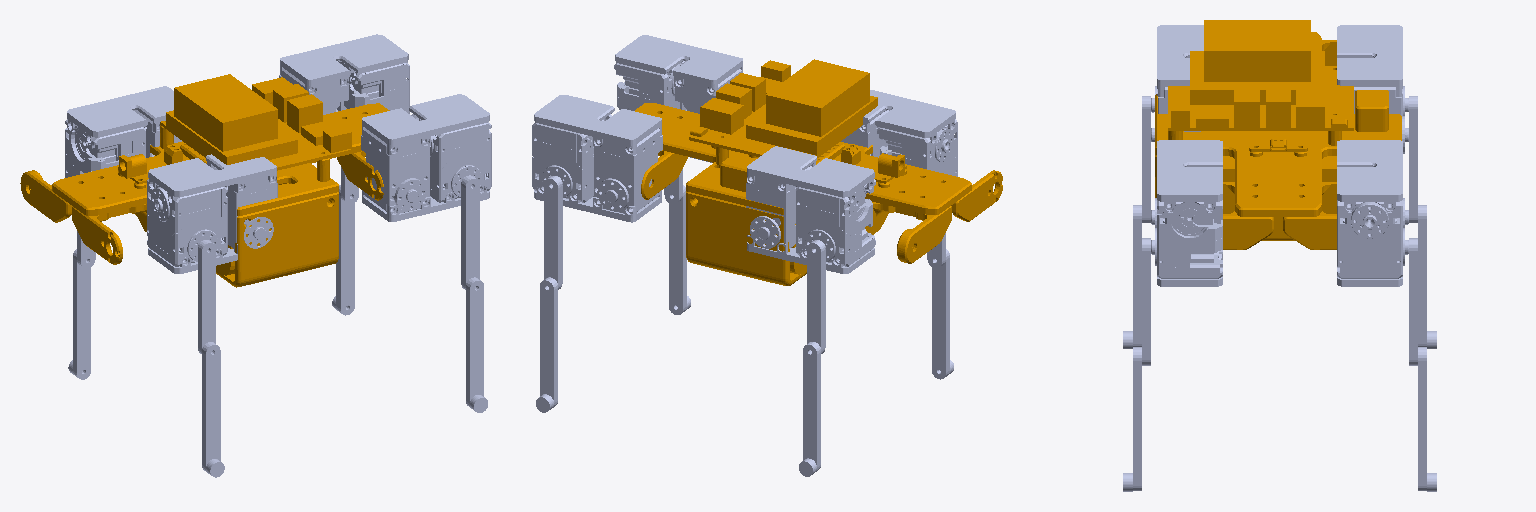
robot.urdf — fooldog_urdf:
<?xml version="1.0" encoding="utf-8"?>
<!-- This URDF was automatically created by SolidWorks to URDF Exporter! Originally created by [author] ([email redacted]) 
     Commit Version: 1.6.0-4-g7f85cfe  Build Version: 1.6.7995.38578
     For more information, please see http://wiki.ros.org/sw_urdf_exporter -->
<robot
  name="fooldog_urdf">
  <link name="base_link">
    <visual>
      <origin
        xyz="-0.0313813075929248 -0.00081345874439115 -0.0203361388423792"
        rpy="0 0 0" />
      <geometry>
        <mesh filename="package://fooldog_urdf/meshes/base_link.STL"/>
      </geometry>
    </visual>
    <collision>
      <origin xyz="0 0 0" rpy="0 0 0"/>
      <geometry>
        <mesh filename="package://fooldog_urdf/meshes/base_link.STL"/>
      </geometry>
    </collision>
  </link>
  <!-- Fixed joint to add dummy inertia link -->
  <joint name="base_to_base_inertia" type="fixed">
    <parent link="base_link" />
    <child link="base_inertia" />
    <origin rpy="0 0 0" xyz="0 0 0" />
  </joint>
  <!-- Dummy inertia link, because KDL cannot have inertia on the base link -->
  <link name="base_inertia">
    <inertial>
      <origin rpy="0 0 0" xyz="0 0 0"/>
      <mass value="0.1"/>
      <inertia ixx="0.01" ixy="0" ixz="0" iyy="0.01" iyz="0" izz="0.01"/>
    </inertial>
  </link>
  <link
    name="fl_Link">
    <inertial>
      <origin
        xyz="0.0362396128583494 0.000881421034328853 -0.0121399997669012"
        rpy="0 0 0" />
      <mass
        value="0.115606527774141" />
      <inertia
        ixx="2.7672758582273E-05"
        ixy="3.61016816676796E-07"
        ixz="-6.54728431466397E-09"
        iyy="3.30818992521892E-05"
        iyz="2.55280788679725E-07"
        izz="2.76816776750825E-05" />
    </inertial>
    <visual>
      <origin
        xyz="0 0 0"
        rpy="0 0 0" />
      <geometry>
        <mesh
          filename="package://fooldog_urdf/meshes/fl_Link.STL" />
      </geometry>
      <material
        name="">
        <color
          rgba="0.792156862745098 0.819607843137255 0.933333333333333 1" />
      </material>
    </visual>
    <collision>
      <origin
        xyz="0 0 0"
        rpy="0 0 0" />
      <geometry>
        <mesh
          filename="package://fooldog_urdf/meshes/fl_Link.STL" />
      </geometry>
    </collision>
  </link>
  <joint
    name="fl"
    type="continuous">
    <origin
      xyz="0.00723678392728447 0.0485586045266115 -0.0196700000000003"
      rpy="0 0 0" />
    <parent
      link="base_link" />
    <child
      link="fl_Link" />
    <axis
      xyz="1 0 0" />
  </joint>
  <link
    name="flu_Link">
    <inertial>
      <origin
        xyz="-8.3100610129283E-08 0.00250249593004062 -0.0325001100766686"
        rpy="0 0 0" />
      <mass
        value="0.00356977187980691" />
      <inertia
        ixx="1.54760219123258E-06"
        ixy="-1.97101940239977E-13"
        ixz="-1.11937080823944E-11"
        iyy="1.56961934496898E-06"
        iyz="6.87149175614032E-13"
        izz="3.6891361382989E-08" />
    </inertial>
    <visual>
      <origin
        xyz="0 0 0"
        rpy="0 0 0" />
      <geometry>
        <mesh
          filename="package://fooldog_urdf/meshes/flu_Link.STL" />
      </geometry>
      <material
        name="">
        <color
          rgba="0.792156862745098 0.819607843137255 0.933333333333333 1" />
      </material>
    </visual>
    <collision>
      <origin
        xyz="0 0 0"
        rpy="0 0 0" />
      <geometry>
        <mesh
          filename="package://fooldog_urdf/meshes/flu_Link.STL" />
      </geometry>
    </collision>
  </link>
  <joint
    name="flu"
    type="continuous">
    <origin
      xyz="0.0524464493931691 0.0209174990447602 -0.0240000000000004"
      rpy="0 0 0" />
    <parent
      link="fl_Link" />
    <child
      link="flu_Link" />
    <axis
      xyz="0 1 0" />
  </joint>
  <link
    name="fld_Link">
    <inertial>
      <origin
        xyz="-2.18695815623615E-09 0.00249999534071721 -0.0374999107536592"
        rpy="0 0 0" />
      <mass
        value="0.00406938938923673" />
      <inertia
        ixx="2.2827457514132E-06"
        ixy="-1.78424846650356E-14"
        ixz="-9.64938373066733E-12"
        iyy="2.30788290654951E-06"
        iyz="7.26000690668644E-13"
        izz="4.20931619021605E-08" />
    </inertial>
    <visual>
      <origin
        xyz="0 0 0"
        rpy="0 0 0" />
      <geometry>
        <mesh
          filename="package://fooldog_urdf/meshes/fld_Link.STL" />
      </geometry>
      <material
        name="">
        <color
          rgba="0.792156862745098 0.819607843137255 0.933333333333333 1" />
      </material>
    </visual>
    <collision>
      <origin
        xyz="0 0 0"
        rpy="0 0 0" />
      <geometry>
        <mesh
          filename="package://fooldog_urdf/meshes/fld_Link.STL" />
      </geometry>
    </collision>
  </link>
  <joint
    name="fld"
    type="continuous">
    <origin
      xyz="0 0.00500250095523978 -0.0649999643759598"
      rpy="0 0 0" />
    <parent
      link="flu_Link" />
    <child
      link="fld_Link" />
    <axis
      xyz="0 1 0" />
  </joint>
  <link
    name="flf_Link">
    <inertial>
      <origin
        xyz="-1.7541244572844E-07 0.00250004386431849 6.64767560998314E-08"
        rpy="0 0 0" />
      <mass
        value="0.000392662064001443" />
      <inertia
        ixx="3.27416101920322E-09"
        ixy="1.37752604700155E-13"
        ixz="-4.67235530190916E-13"
        iyy="4.90800875634096E-09"
        iyz="-5.22046555243651E-14"
        izz="3.26984780841236E-09" />
    </inertial>
    <visual>
      <origin
        xyz="0 0 0"
        rpy="0 0 0" />
      <geometry>
        <mesh
          filename="package://fooldog_urdf/meshes/flf_Link.STL" />
      </geometry>
      <material
        name="">
        <color
          rgba="0.792156862745098 0.819607843137255 0.933333333333333 1" />
      </material>
    </visual>
    <collision>
      <origin
        xyz="0 0 0"
        rpy="0 0 0" />
      <geometry>
        <mesh
          filename="package://fooldog_urdf/meshes/flf_Link.STL" />
      </geometry>
    </collision>
  </link>
  <joint
    name="flf"
    type="fixed">
    <origin
      xyz="0 0.00499999999999999 -0.074999999999994"
      rpy="0 0 0" />
    <parent
      link="fld_Link" />
    <child
      link="flf_Link" />
    <axis
      xyz="0 1 0" />
  </joint>
  <link
    name="fr_Link">
    <inertial>
      <origin
        xyz="0.0353657573446796 -0.000881458634347174 -0.01213993551594"
        rpy="0 0 0" />
      <mass
        value="0.115607202953719" />
      <inertia
        ixx="2.76734007268047E-05"
        ixy="3.37826313509432E-07"
        ixz="3.83056804594391E-09"
        iyy="3.30828494629692E-05"
        iyz="-2.55205398451743E-07"
        izz="2.76822536893207E-05" />
    </inertial>
    <visual>
      <origin
        xyz="0 0 0"
        rpy="0 0 0" />
      <geometry>
        <mesh
          filename="package://fooldog_urdf/meshes/fr_Link.STL" />
      </geometry>
      <material
        name="">
        <color
          rgba="0.792156862745098 0.819607843137255 0.933333333333333 1" />
      </material>
    </visual>
    <collision>
      <origin
        xyz="0 0 0"
        rpy="0 0 0" />
      <geometry>
        <mesh
          filename="package://fooldog_urdf/meshes/fr_Link.STL" />
      </geometry>
    </collision>
  </link>
  <joint
    name="fr"
    type="continuous">
    <origin
      xyz="0.00723678407973241 -0.0485586045266115 -0.0196700000000008"
      rpy="0 0 0" />
    <parent
      link="base_link" />
    <child
      link="fr_Link" />
    <axis
      xyz="1 0 0" />
  </joint>
  <link
    name="fru_Link">
    <inertial>
      <origin
        xyz="-9.60401154992407E-08 -0.00250250502519832 -0.0325000978434327"
        rpy="0 0 0" />
      <mass
        value="0.00356977238820035" />
      <inertia
        ixx="1.54759961428198E-06"
        ixy="-1.97101704470595E-13"
        ixz="-6.88471641797329E-12"
        iyy="1.56961675869309E-06"
        iyz="6.8714897248459E-13"
        izz="3.68913533286807E-08" />
    </inertial>
    <visual>
      <origin
        xyz="0 0 0"
        rpy="0 0 0" />
      <geometry>
        <mesh
          filename="package://fooldog_urdf/meshes/fru_Link.STL" />
      </geometry>
      <material
        name="">
        <color
          rgba="0.792156862745098 0.819607843137255 0.933333333333333 1" />
      </material>
    </visual>
    <collision>
      <origin
        xyz="0 0 0"
        rpy="0 0 0" />
      <geometry>
        <mesh
          filename="package://fooldog_urdf/meshes/fru_Link.STL" />
      </geometry>
    </collision>
  </link>
  <joint
    name="fru"
    type="continuous">
    <origin
      xyz="0.0524464492407212 -0.0209174999999999 -0.0239999999999998"
      rpy="0 0 0" />
    <parent
      link="fr_Link" />
    <child
      link="fru_Link" />
    <axis
      xyz="0 1 0" />
  </joint>
  <link
    name="frd_Link">
    <inertial>
      <origin
        xyz="-2.18507476001939E-09 -0.00250000465928281 -0.0374999107245979"
        rpy="0 0 0" />
      <mass
        value="0.00406938939511331" />
      <inertia
        ixx="2.28274575309022E-06"
        ixy="-1.78424846448734E-14"
        ixz="-1.5549255750963E-12"
        iyy="2.30788290877387E-06"
        iyz="7.2600069040035E-13"
        izz="4.20931624641901E-08" />
    </inertial>
    <visual>
      <origin
        xyz="0 0 0"
        rpy="0 0 0" />
      <geometry>
        <mesh
          filename="package://fooldog_urdf/meshes/frd_Link.STL" />
      </geometry>
      <material
        name="">
        <color
          rgba="0.792156862745098 0.819607843137255 0.933333333333333 1" />
      </material>
    </visual>
    <collision>
      <origin
        xyz="0 0 0"
        rpy="0 0 0" />
      <geometry>
        <mesh
          filename="package://fooldog_urdf/meshes/frd_Link.STL" />
      </geometry>
    </collision>
  </link>
  <joint
    name="frd"
    type="continuous">
    <origin
      xyz="0 -0.00500249999999999 -0.0649999643759603"
      rpy="0 0 0" />
    <parent
      link="fru_Link" />
    <child
      link="frd_Link" />
    <axis
      xyz="0 1 0" />
  </joint>
  <link
    name="frf_Link">
    <inertial>
      <origin
        xyz="-1.75412445735379E-07 -0.00249995613568155 6.64767560998314E-08"
        rpy="0 0 0" />
      <mass
        value="0.000392662064001445" />
      <inertia
        ixx="3.27416101920321E-09"
        ixy="1.37752604691601E-13"
        ixz="-4.67235530206812E-13"
        iyy="4.90800875634099E-09"
        iyz="-5.2204655523192E-14"
        izz="3.26984780841239E-09" />
    </inertial>
    <visual>
      <origin
        xyz="0 0 0"
        rpy="0 0 0" />
      <geometry>
        <mesh
          filename="package://fooldog_urdf/meshes/frf_Link.STL" />
      </geometry>
      <material
        name="">
        <color
          rgba="0.792156862745098 0.819607843137255 0.933333333333333 1" />
      </material>
    </visual>
    <collision>
      <origin
        xyz="0 0 0"
        rpy="0 0 0" />
      <geometry>
        <mesh
          filename="package://fooldog_urdf/meshes/frf_Link.STL" />
      </geometry>
    </collision>
  </link>
  <joint
    name="frf"
    type="fixed">
    <origin
      xyz="0 -0.005 -0.074999999999994"
      rpy="0 0 0" />
    <parent
      link="frd_Link" />
    <child
      link="frf_Link" />
    <axis
      xyz="0 1 0" />
  </joint>
  <link
    name="bl_Link">
    <inertial>
      <origin
        xyz="-0.0353656984838925 0.000881421071971408 -0.0121399784381246"
        rpy="0 0 0" />
      <mass
        value="0.115606746709192" />
      <inertia
        ixx="2.76728053327667E-05"
        ixy="3.3785144523757E-07"
        ixz="-3.82770738138678E-09"
        iyy="3.30820511910554E-05"
        iyz="2.55278303662232E-07"
        izz="2.76818219754704E-05" />
    </inertial>
    <visual>
      <origin
        xyz="0 0 0"
        rpy="0 0 0" />
      <geometry>
        <mesh
          filename="package://fooldog_urdf/meshes/bl_Link.STL" />
      </geometry>
      <material
        name="">
        <color
          rgba="0.792156862745098 0.819607843137255 0.933333333333333 1" />
      </material>
    </visual>
    <collision>
      <origin
        xyz="0 0 0"
        rpy="0 0 0" />
      <geometry>
        <mesh
          filename="package://fooldog_urdf/meshes/bl_Link.STL" />
      </geometry>
    </collision>
  </link>
  <joint
    name="bl"
    type="continuous">
    <origin
      xyz="-0.0692103140818923 0.0485586045266112 -0.0196700000000008"
      rpy="0 0 0" />
    <parent
      link="base_link" />
    <child
      link="bl_Link" />
    <axis
      xyz="1 0 0" />
  </joint>
  <link
    name="blu_Link">
    <inertial>
      <origin
        xyz="1.1228012866682E-07 0.00250249440029281 -0.032500098852133"
        rpy="0 0 0" />
      <mass
        value="0.00356977238751855" />
      <inertia
        ixx="1.54759981979417E-06"
        ixy="9.94211959482504E-14"
        ixz="5.39826442711664E-12"
        iyy="1.56961637954596E-06"
        iyz="6.26996673026569E-13"
        izz="3.68907686642067E-08" />
    </inertial>
    <visual>
      <origin
        xyz="0 0 0"
        rpy="0 0 0" />
      <geometry>
        <mesh
          filename="package://fooldog_urdf/meshes/blu_Link.STL" />
      </geometry>
      <material
        name="">
        <color
          rgba="0.792156862745098 0.819607843137255 0.933333333333333 1" />
      </material>
    </visual>
    <collision>
      <origin
        xyz="0 0 0"
        rpy="0 0 0" />
      <geometry>
        <mesh
          filename="package://fooldog_urdf/meshes/blu_Link.STL" />
      </geometry>
    </collision>
  </link>
  <joint
    name="blu"
    type="continuous">
    <origin
      xyz="-0.0524464492407207 0.0209175 -0.0239999999999998"
      rpy="0 0 0" />
    <parent
      link="bl_Link" />
    <child
      link="blu_Link" />
    <axis
      xyz="0 1 0" />
  </joint>
  <link
    name="bld_Link">
    <inertial>
      <origin
        xyz="-1.48403035404865E-06 0.00249999533943603 -0.0374999107290417"
        rpy="0 0 0" />
      <mass
        value="0.00406938939249337" />
      <inertia
        ixx="2.2827457410441E-06"
        ixy="-1.77627036630698E-14"
        ixz="-9.15969091535514E-11"
        iyy="2.30788289894054E-06"
        iyz="7.26289520460782E-13"
        izz="4.20931646573267E-08" />
    </inertial>
    <visual>
      <origin
        xyz="0 0 0"
        rpy="0 0 0" />
      <geometry>
        <mesh
          filename="package://fooldog_urdf/meshes/bld_Link.STL" />
      </geometry>
      <material
        name="">
        <color
          rgba="0.792156862745098 0.819607843137255 0.933333333333333 1" />
      </material>
    </visual>
    <collision>
      <origin
        xyz="0 0 0"
        rpy="0 0 0" />
      <geometry>
        <mesh
          filename="package://fooldog_urdf/meshes/bld_Link.STL" />
      </geometry>
    </collision>
  </link>
  <joint
    name="bld"
    type="continuous">
    <origin
      xyz="0 0.00500249999999998 -0.0649999643759606"
      rpy="0 0 0" />
    <parent
      link="blu_Link" />
    <child
      link="bld_Link" />
    <axis
      xyz="0 1 0" />
  </joint>
  <link
    name="blf_Link">
    <inertial>
      <origin
        xyz="-1.75408453165216E-07 0.00250004386431849 6.64936707639452E-08"
        rpy="0 0 0" />
      <mass
        value="0.00039266206400142" />
      <inertia
        ixx="3.27416093160848E-09"
        ixy="1.37749469314318E-13"
        ixz="-4.67362462897062E-13"
        iyy="4.90800876098625E-09"
        iyz="-5.22179387556621E-14"
        izz="3.26984790065226E-09" />
    </inertial>
    <visual>
      <origin
        xyz="0 0 0"
        rpy="0 0 0" />
      <geometry>
        <mesh
          filename="package://fooldog_urdf/meshes/blf_Link.STL" />
      </geometry>
      <material
        name="">
        <color
          rgba="0.792156862745098 0.819607843137255 0.933333333333333 1" />
      </material>
    </visual>
    <collision>
      <origin
        xyz="0 0 0"
        rpy="0 0 0" />
      <geometry>
        <mesh
          filename="package://fooldog_urdf/meshes/blf_Link.STL" />
      </geometry>
    </collision>
  </link>
  <joint
    name="blf"
    type="fixed">
    <origin
      xyz="0 0.00499999999999999 -0.074999999941437"
      rpy="0 0 0" />
    <parent
      link="bld_Link" />
    <child
      link="blf_Link" />
    <axis
      xyz="0 1 0" />
  </joint>
  <link
    name="br_Link">
    <inertial>
      <origin
        xyz="-0.0362397199110994 -0.000881456036391337 -0.0121399127339061"
        rpy="0 0 0" />
      <mass
        value="0.115607363509946" />
      <inertia
        ixx="2.76734322521145E-05"
        ixy="3.60978319233135E-07"
        ixz="6.55980950809089E-09"
        iyy="3.30829941252106E-05"
        iyz="-2.55207890327998E-07"
        izz="2.76823756757094E-05" />
    </inertial>
    <visual>
      <origin
        xyz="0 0 0"
        rpy="0 0 0" />
      <geometry>
        <mesh
          filename="package://fooldog_urdf/meshes/br_Link.STL" />
      </geometry>
      <material
        name="">
        <color
          rgba="0.792156862745098 0.819607843137255 0.933333333333333 1" />
      </material>
    </visual>
    <collision>
      <origin
        xyz="0 0 0"
        rpy="0 0 0" />
      <geometry>
        <mesh
          filename="package://fooldog_urdf/meshes/br_Link.STL" />
      </geometry>
    </collision>
  </link>
  <joint
    name="br"
    type="continuous">
    <origin
      xyz="-0.069210317591168 -0.0485586045266115 -0.0196700000000008"
      rpy="0 0 0" />
    <parent
      link="base_link" />
    <child
      link="br_Link" />
    <axis
      xyz="1 0 0" />
  </joint>
  <link
    name="bru_Link">
    <inertial>
      <origin
        xyz="1.02849901359447E-07 -0.00250250559970802 -0.0325001110853673"
        rpy="0 0 0" />
      <mass
        value="0.00356977187912478" />
      <inertia
        ixx="1.5476023967445E-06"
        ixy="9.94214576251833E-14"
        ixz="9.70725542679528E-12"
        iyy="1.56961896582311E-06"
        iyz="6.26996918220703E-13"
        izz="3.68907767200401E-08" />
    </inertial>
    <visual>
      <origin
        xyz="0 0 0"
        rpy="0 0 0" />
      <geometry>
        <mesh
          filename="package://fooldog_urdf/meshes/bru_Link.STL" />
      </geometry>
      <material
        name="">
        <color
          rgba="0.792156862745098 0.819607843137255 0.933333333333333 1" />
      </material>
    </visual>
    <collision>
      <origin
        xyz="0 0 0"
        rpy="0 0 0" />
      <geometry>
        <mesh
          filename="package://fooldog_urdf/meshes/bru_Link.STL" />
      </geometry>
    </collision>
  </link>
  <joint
    name="bru"
    type="continuous">
    <origin
      xyz="-0.052446449240721 -0.0209174999999999 -0.0239999999999998"
      rpy="0 0 0" />
    <parent
      link="br_Link" />
    <child
      link="bru_Link" />
    <axis
      xyz="0 1 0" />
  </joint>
  <link
    name="brd_Link">
    <inertial>
      <origin
        xyz="-1.48402847253981E-06 -0.00250000466056437 -0.0374999107581021"
        rpy="0 0 0" />
      <mass
        value="0.00406938938661598" />
      <inertia
        ixx="2.28274574000674E-06"
        ixy="-1.77626978067659E-14"
        ixz="-8.35024509948514E-11"
        iyy="2.30788289671611E-06"
        iyz="7.26289512701157E-13"
        izz="4.20931634555637E-08" />
    </inertial>
    <visual>
      <origin
        xyz="0 0 0"
        rpy="0 0 0" />
      <geometry>
        <mesh
          filename="package://fooldog_urdf/meshes/brd_Link.STL" />
      </geometry>
      <material
        name="">
        <color
          rgba="0.792156862745098 0.819607843137255 0.933333333333333 1" />
      </material>
    </visual>
    <collision>
      <origin
        xyz="0 0 0"
        rpy="0 0 0" />
      <geometry>
        <mesh
          filename="package://fooldog_urdf/meshes/brd_Link.STL" />
      </geometry>
    </collision>
  </link>
  <joint
    name="brd"
    type="continuous">
    <origin
      xyz="0 -0.00500249999999999 -0.0649999643759606"
      rpy="0 0 0" />
    <parent
      link="bru_Link" />
    <child
      link="brd_Link" />
    <axis
      xyz="0 1 0" />
  </joint>
  <link
    name="brf_Link">
    <inertial>
      <origin
        xyz="-1.75408453165216E-07 -0.00249995613568155 6.64936707917008E-08"
        rpy="0 0 0" />
      <mass
        value="0.000392662064001423" />
      <inertia
        ixx="3.27416093160849E-09"
        ixy="1.37749469310933E-13"
        ixz="-4.67362462889038E-13"
        iyy="4.90800876098628E-09"
        iyz="-5.22179387502366E-14"
        izz="3.2698479006523E-09" />
    </inertial>
    <visual>
      <origin
        xyz="0 0 0"
        rpy="0 0 0" />
      <geometry>
        <mesh
          filename="package://fooldog_urdf/meshes/brf_Link.STL" />
      </geometry>
      <material
        name="">
        <color
          rgba="0.792156862745098 0.819607843137255 0.933333333333333 1" />
      </material>
    </visual>
    <collision>
      <origin
        xyz="0 0 0"
        rpy="0 0 0" />
      <geometry>
        <mesh
          filename="package://fooldog_urdf/meshes/brf_Link.STL" />
      </geometry>
    </collision>
  </link>
  <joint
    name="brf"
    type="fixed">
    <origin
      xyz="0 -0.005 -0.074999999941437"
      rpy="0 0 0" />
    <parent
      link="brd_Link" />
    <child
      link="brf_Link" />
    <axis
      xyz="0 1 0" />
  </joint>
</robot>

--- Render facts (derived) ---
Views: 3 orthographic renders of the robot side by side, from view 1: azimuth 30°, elevation 25°; view 2: azimuth 150°, elevation 25°; view 3: azimuth 270°, elevation 25°.
Model fooldog_urdf with 18 links and 17 joints (12 continuous, 5 fixed), rooted at base_link, posed all joints at 0.
Visible links, largest first — view 1: base_link, fr_Link, br_Link, fl_Link, bl_Link, brd_Link, frd_Link, bld_Link, fru_Link, fld_Link, bru_Link; view 2: base_link, fl_Link, bl_Link, fr_Link, br_Link, fld_Link, bld_Link, brd_Link, frd_Link, blu_Link, flu_Link; view 3: base_link, fl_Link, fr_Link, bl_Link, br_Link, fld_Link, frd_Link, bld_Link, brd_Link, flu_Link, fru_Link, blu_Link (+1 smaller).
Boxes of the visible links, left/top/right/bottom form: base_link: left=20, top=74, right=389, bottom=287; fr_Link: left=361, top=94, right=491, bottom=221; br_Link: left=147, top=154, right=277, bottom=273; fl_Link: left=279, top=34, right=409, bottom=114; bl_Link: left=65, top=86, right=181, bottom=177; brd_Link: left=202, top=342, right=220, bottom=471; frd_Link: left=466, top=277, right=483, bottom=407; bld_Link: left=73, top=249, right=90, bottom=379; fru_Link: left=461, top=175, right=479, bottom=289; fld_Link: left=336, top=185, right=354, bottom=315; bru_Link: left=198, top=240, right=215, bottom=353; base_link: left=635, top=59, right=1002, bottom=285; fl_Link: left=532, top=95, right=662, bottom=222; bl_Link: left=746, top=146, right=875, bottom=273; fr_Link: left=614, top=35, right=742, bottom=162; br_Link: left=841, top=90, right=957, bottom=176; fld_Link: left=540, top=277, right=557, bottom=407; bld_Link: left=803, top=342, right=820, bottom=471; brd_Link: left=932, top=249, right=949, bottom=379; frd_Link: left=669, top=185, right=686, bottom=314; blu_Link: left=807, top=240, right=825, bottom=353; flu_Link: left=544, top=176, right=562, bottom=289; base_link: left=1155, top=20, right=1401, bottom=249; fl_Link: left=1337, top=140, right=1408, bottom=286; fr_Link: left=1151, top=140, right=1222, bottom=286; bl_Link: left=1337, top=25, right=1408, bottom=153; br_Link: left=1151, top=25, right=1203, bottom=141; fld_Link: left=1418, top=347, right=1426, bottom=490; frd_Link: left=1133, top=347, right=1141, bottom=490; bld_Link: left=1418, top=205, right=1426, bottom=346; brd_Link: left=1133, top=205, right=1141, bottom=346; flu_Link: left=1409, top=238, right=1417, bottom=365; fru_Link: left=1142, top=238, right=1150, bottom=365; blu_Link: left=1409, top=96, right=1417, bottom=222.
Size in the robot's own frame: 0.2562 by 0.169 by 0.2087 metres.
17 mesh visuals loaded from 17 distinct referenced files (17 binary STL).
